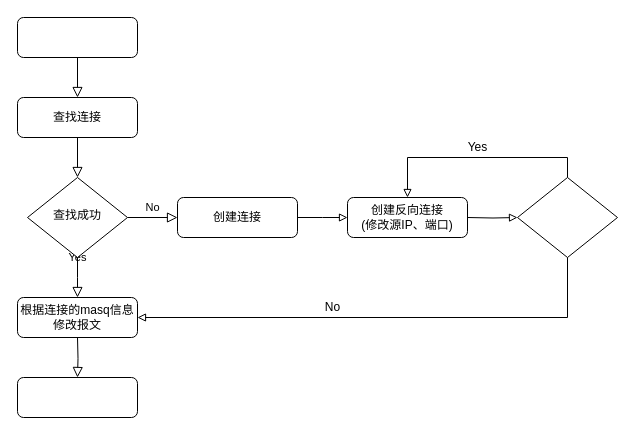
Some shapes in this 635 by 435 pixel diagram are drawn without their labels. Here are the shapes that lost their labels. From the top down, the centre of each, then its label:
At point (77, 37): "egress流程".
At point (567, 217): "反向连接 存在".
At point (77, 397): "网卡发包".
